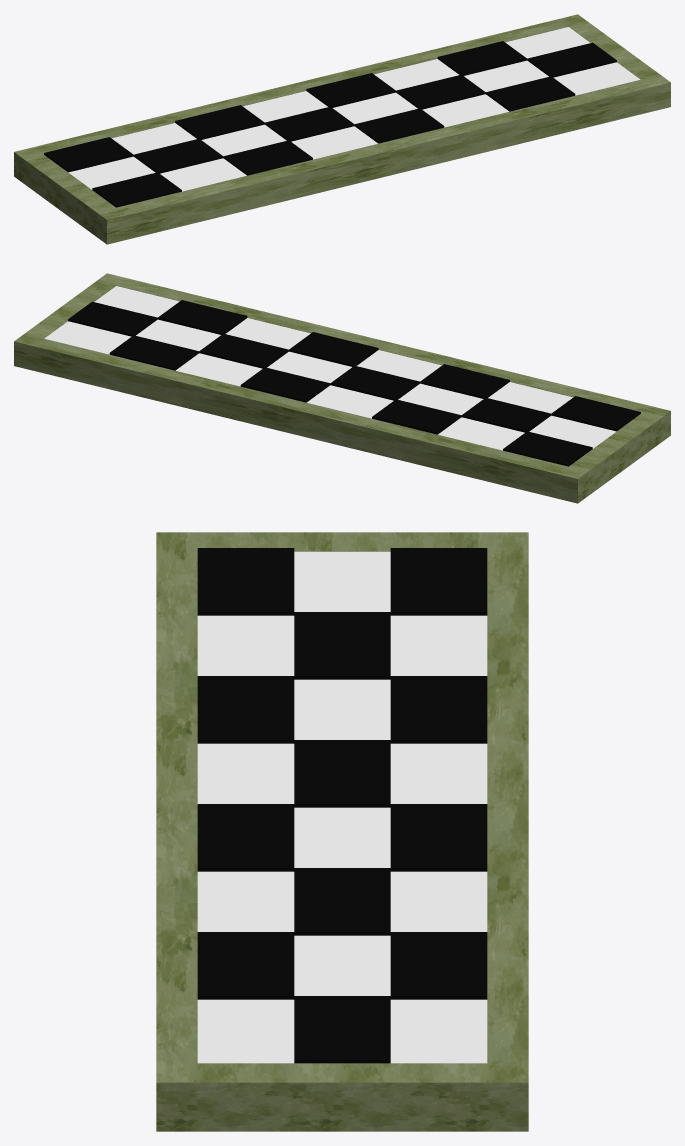
The model's file is StartLine.fbx.
3 views of the same model, one above another, from view 1: azimuth 30°, elevation 25°; view 2: azimuth 150°, elevation 25°; view 3: azimuth 270°, elevation 25° (orthographic). The views are drawn at different scales.
Visible parts, largest first — view 1: Marka, Pembatas; view 2: Marka, Pembatas; view 3: Marka, Pembatas.
Part boxes in pixels (left/top/right/bottom): Marka: left=44, top=27, right=640, bottom=207; Pembatas: left=14, top=14, right=670, bottom=244; Marka: left=44, top=286, right=640, bottom=466; Pembatas: left=14, top=273, right=670, bottom=503; Marka: left=197, top=548, right=487, bottom=1063; Pembatas: left=156, top=532, right=528, bottom=1131.
Size of the model in its own units: 1400 by 400 by 62.51.
